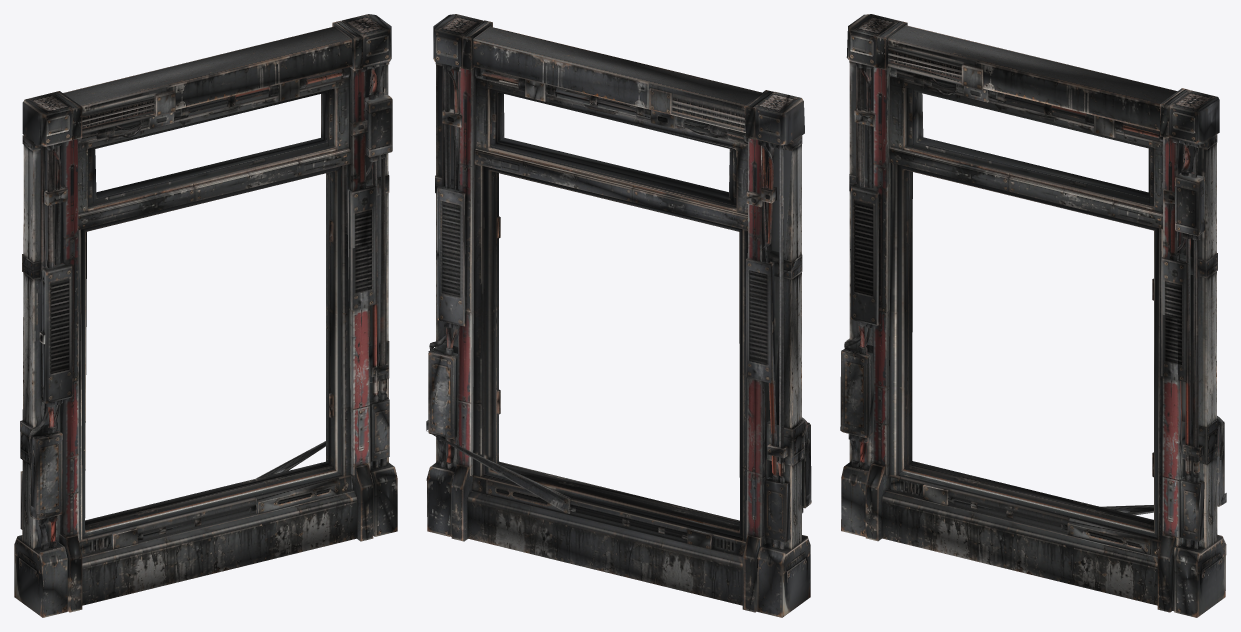
File: door_frame.glb
3 views of the same model, side by side, from view 1: azimuth 30°, elevation 25°; view 2: azimuth 150°, elevation 25°; view 3: azimuth 330°, elevation 25° (orthographic).
Visible parts, largest first — view 1: Mesh_0; view 2: Mesh_0; view 3: Mesh_0.
Part boxes in pixels (left/top/right/bottom): Mesh_0: left=14, top=14, right=397, bottom=617; Mesh_0: left=426, top=14, right=811, bottom=617; Mesh_0: left=840, top=14, right=1226, bottom=617.
Size of the model in its own units: 1.7 by 2.21 by 0.25.
1 material, 1 textured.
